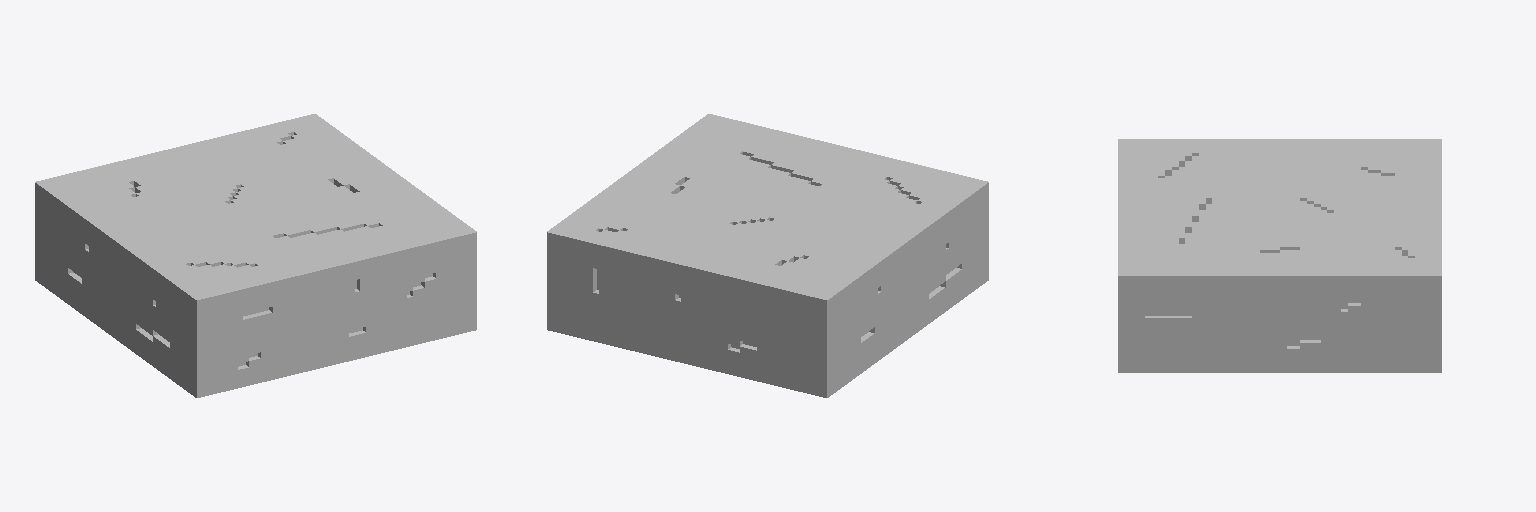
File: platform.obj
3 renders of one model, left to right at view 1: azimuth 30°, elevation 25°; view 2: azimuth 150°, elevation 25°; view 3: azimuth 270°, elevation 25°, orthographic.
Parts seen in each view (by area): view 1: object 1; view 2: object 1; view 3: object 1.
Boxes of the visible parts, x1,y1,x2,y2 form: object 1: [35, 114, 476, 397]; object 1: [547, 114, 988, 397]; object 1: [1118, 139, 1441, 372].
Bounding box in the file's own units: 4.8 × 1.6 × 4.8.